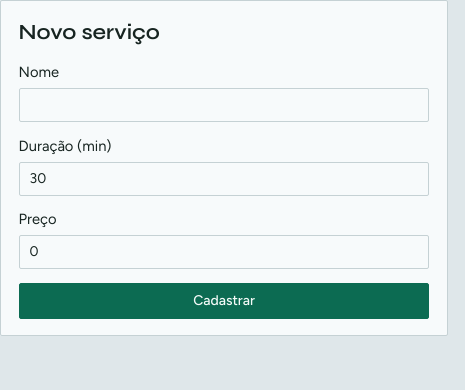
Scenario: NewServiceForm › shows the validation message when the name is missing
Click the button "Cadastrar" at [224, 301], box [19,283,429,319]
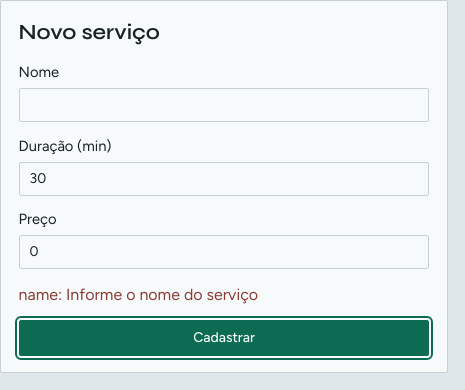
Expected: the message reads "name: Informe o nome do serviço", [19,285,258,304]
